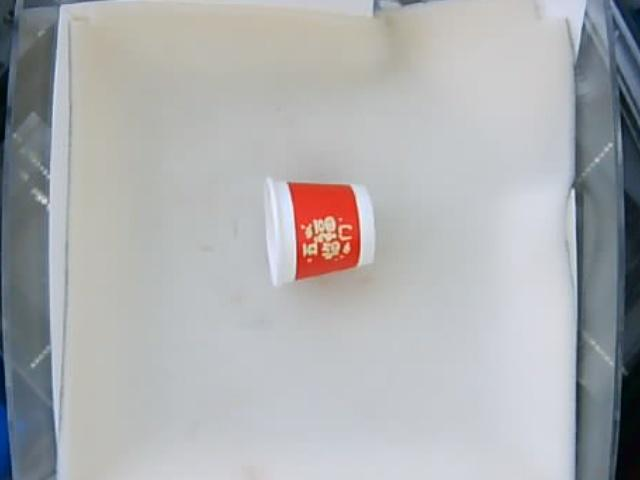Cup: (261, 178, 378, 282)
